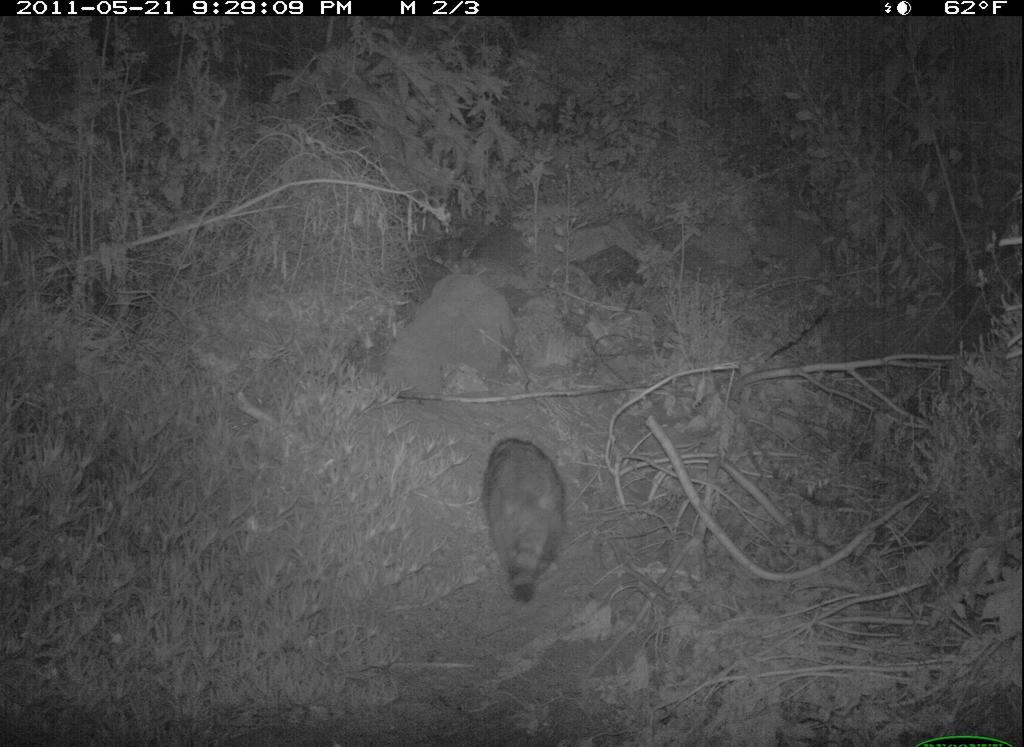raccoon: (477, 424, 571, 609)
